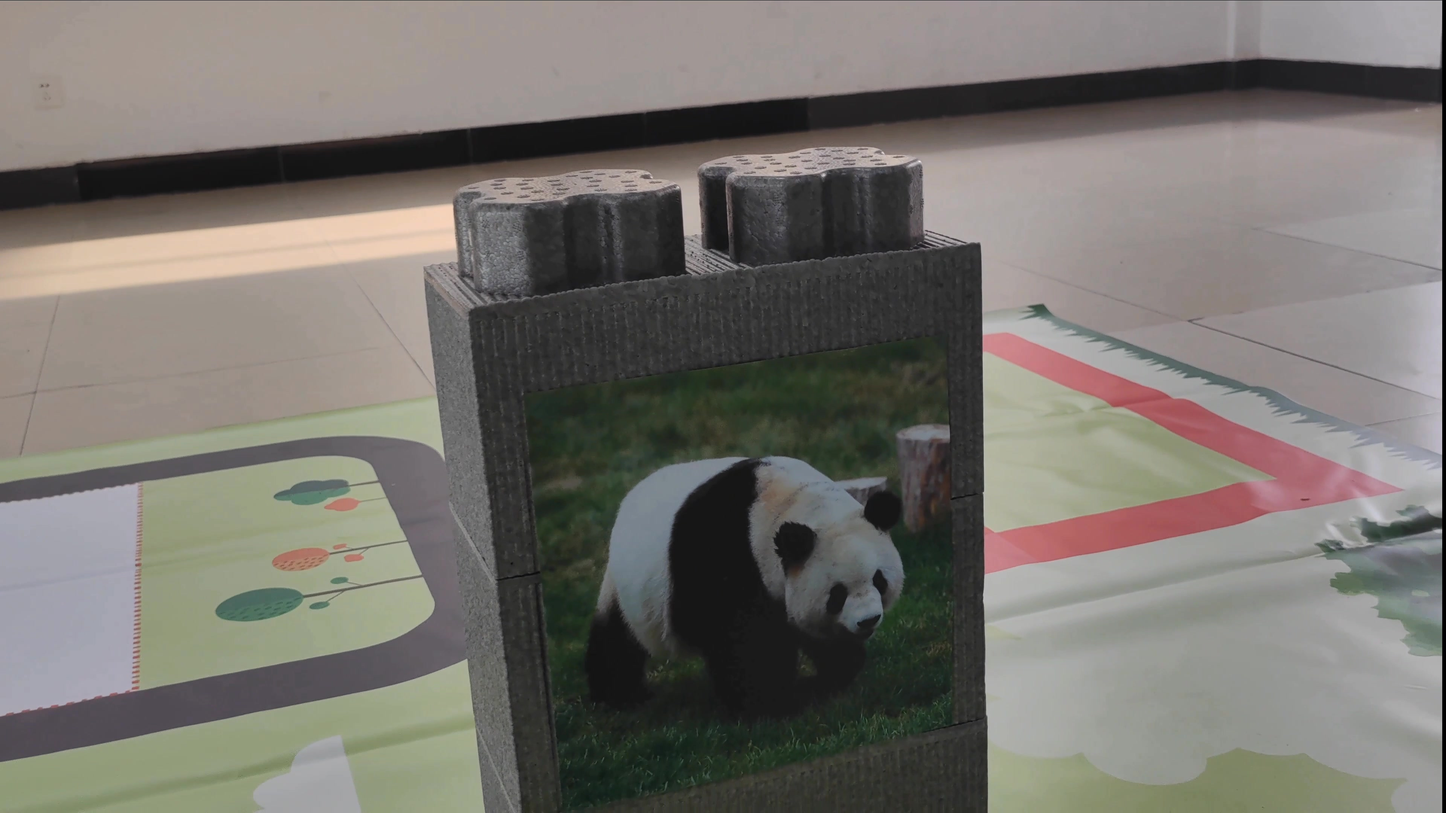panda: (545, 402, 925, 711)
